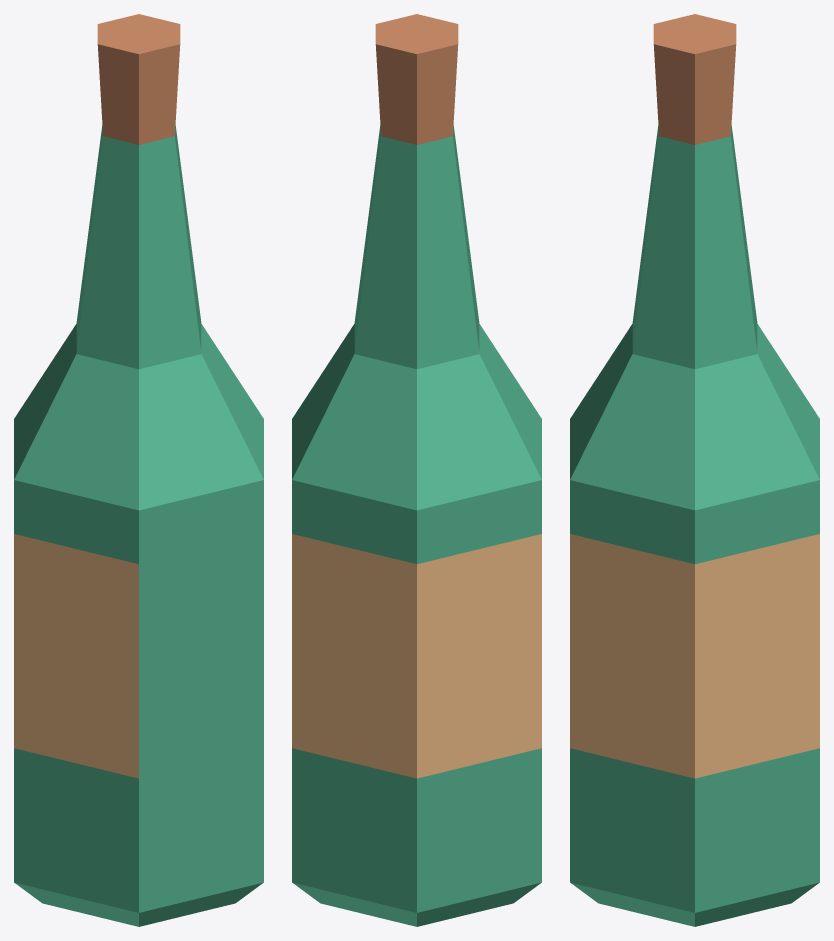
The model's file is wineWhite.obj.
The picture shows the model from 3 angles, left to right: view 1: azimuth 30°, elevation 25°; view 2: azimuth 150°, elevation 25°; view 3: azimuth 270°, elevation 25°; orthographic projection.
Parts seen in each view (by area): view 1: wineWhite; view 2: wineWhite; view 3: wineWhite.
Boxes of the visible parts, box(x1,y1,x2,y2) form: wineWhite: box(14, 14, 263, 926); wineWhite: box(292, 14, 541, 926); wineWhite: box(570, 14, 819, 926).
Size of the model in its own units: 0.2028 by 0.6556 by 0.1756.
